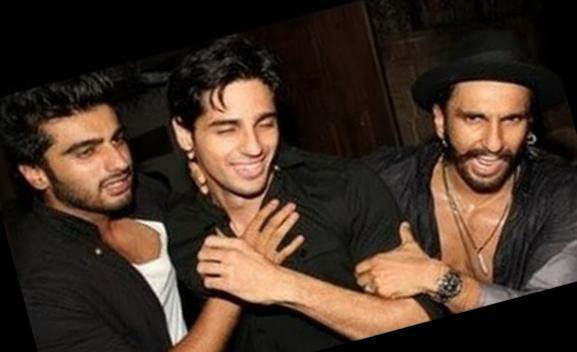Drunk: (198, 83, 280, 199), (47, 112, 136, 214), (447, 80, 526, 190)
